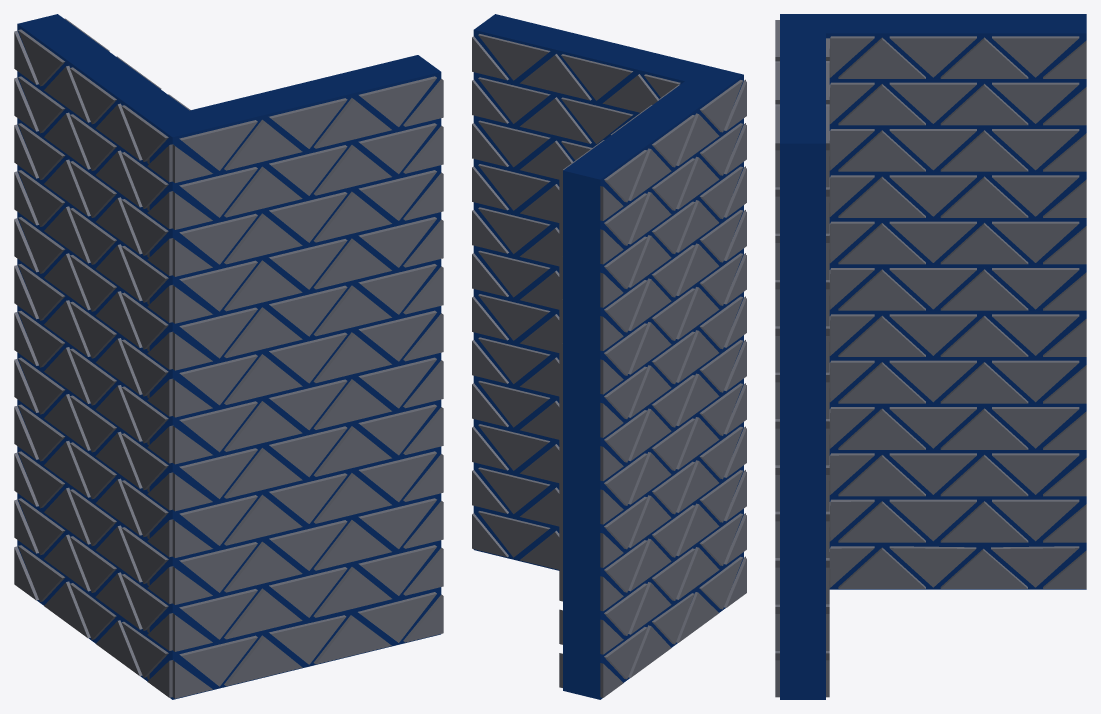
The model's file is FuturisticCorner.glb.
3 renders of one model, left to right at view 1: azimuth 30°, elevation 25°; view 2: azimuth 150°, elevation 25°; view 3: azimuth 270°, elevation 25°, orthographic. The views are drawn at different scales.
Parts seen in each view (by area): view 1: wall_triangles_corner; view 2: wall_triangles_corner; view 3: wall_triangles_corner.
Part boxes in pixels (x1,y1,x2,y2): wall_triangles_corner: (14, 14, 443, 699); wall_triangles_corner: (472, 14, 746, 699); wall_triangles_corner: (775, 14, 1086, 699).
Size of what is drawn, in the model's own units: 2.02 by 4 by 2.03.
Materials: 2 (2 with a texture image).
